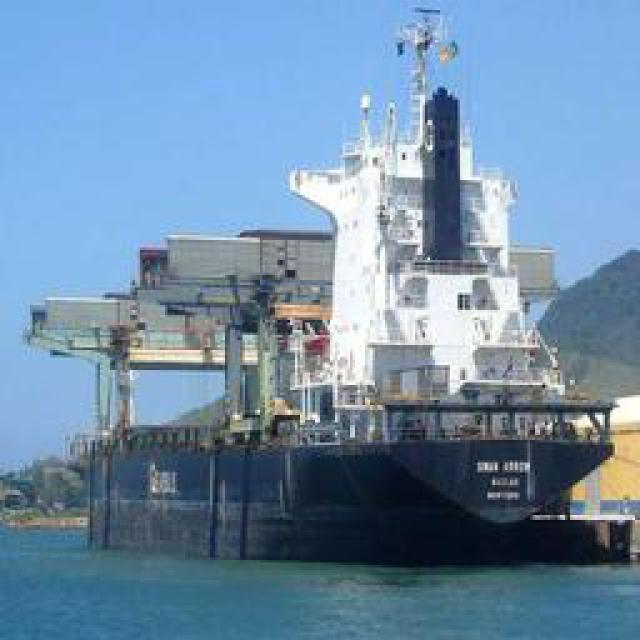Ship: (54, 14, 627, 569)
